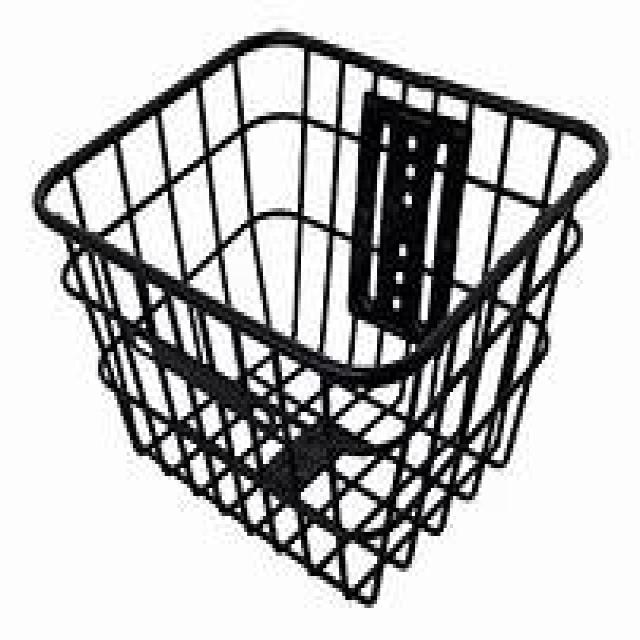basket: (33, 31, 608, 609)
